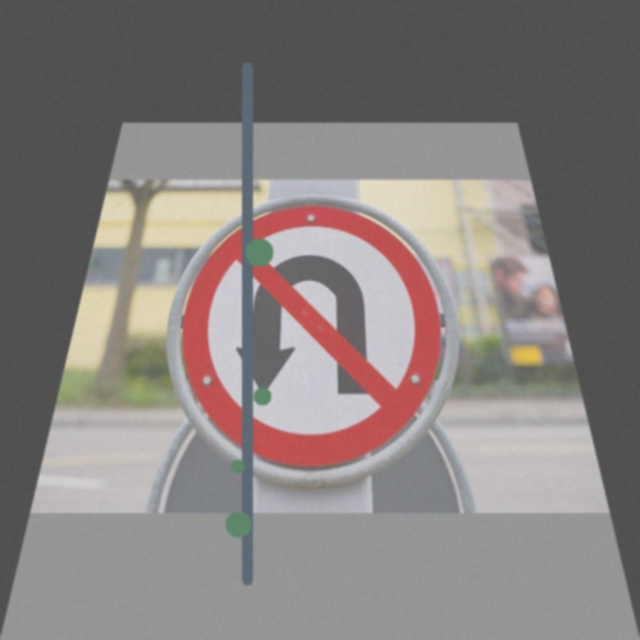U_Turn_Prohibited: (148, 198, 479, 486)
